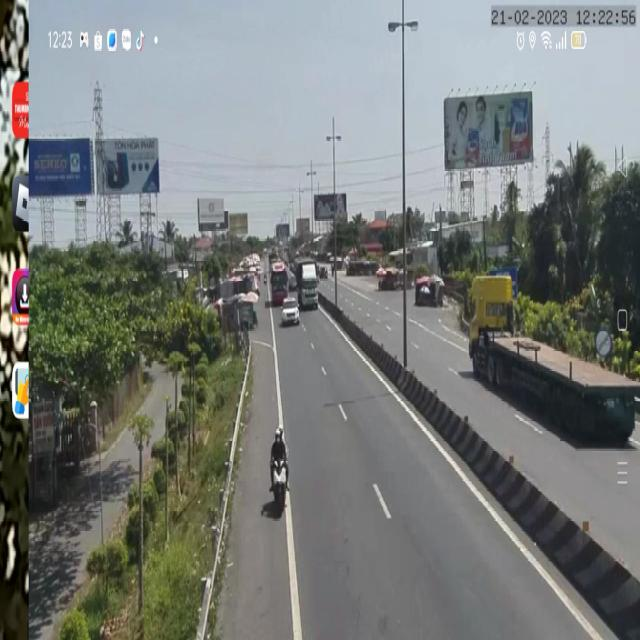bus: (270, 258, 288, 304)
car: (282, 295, 301, 326)
motorbike: (270, 419, 289, 518)
truck: (469, 268, 640, 448), (293, 258, 318, 310)
